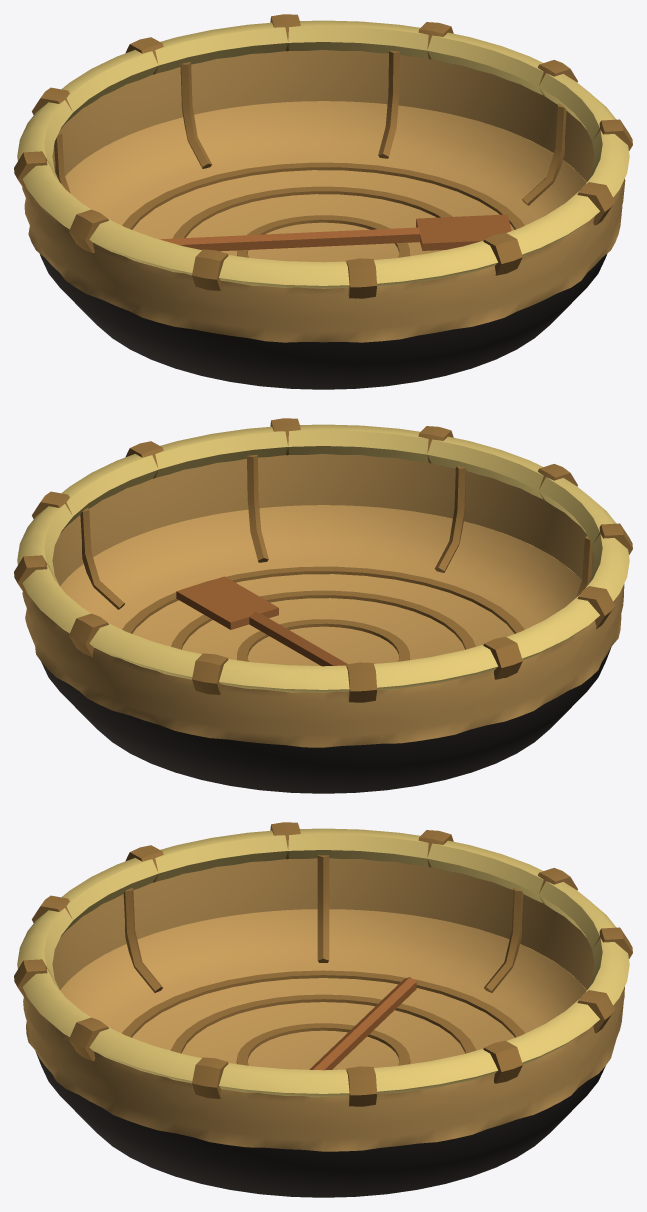
File: basket_boat.glb
The picture shows the model from 3 angles, top to bottom: view 1: azimuth 30°, elevation 25°; view 2: azimuth 150°, elevation 25°; view 3: azimuth 270°, elevation 25°; orthographic projection.
Parts seen in each view (by area): view 1: basket_boat; view 2: basket_boat; view 3: basket_boat.
Part boxes in pixels (box(x1,y1,x2,y2)): basket_boat: box(14, 14, 632, 389); basket_boat: box(14, 418, 632, 793); basket_boat: box(14, 822, 632, 1197).
Size of the model in its own units: 2.28 by 0.715 by 2.28.
